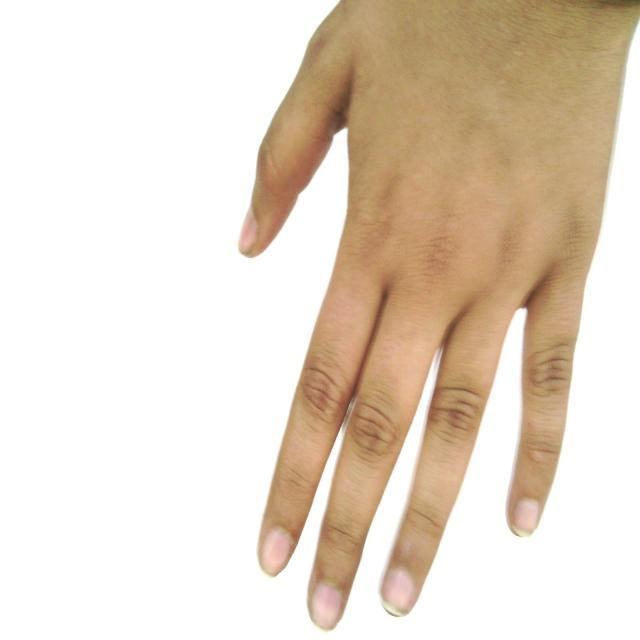Fingernail: (383, 569, 416, 615), (311, 584, 342, 630), (262, 530, 291, 574), (514, 499, 539, 536), (239, 210, 257, 253)
